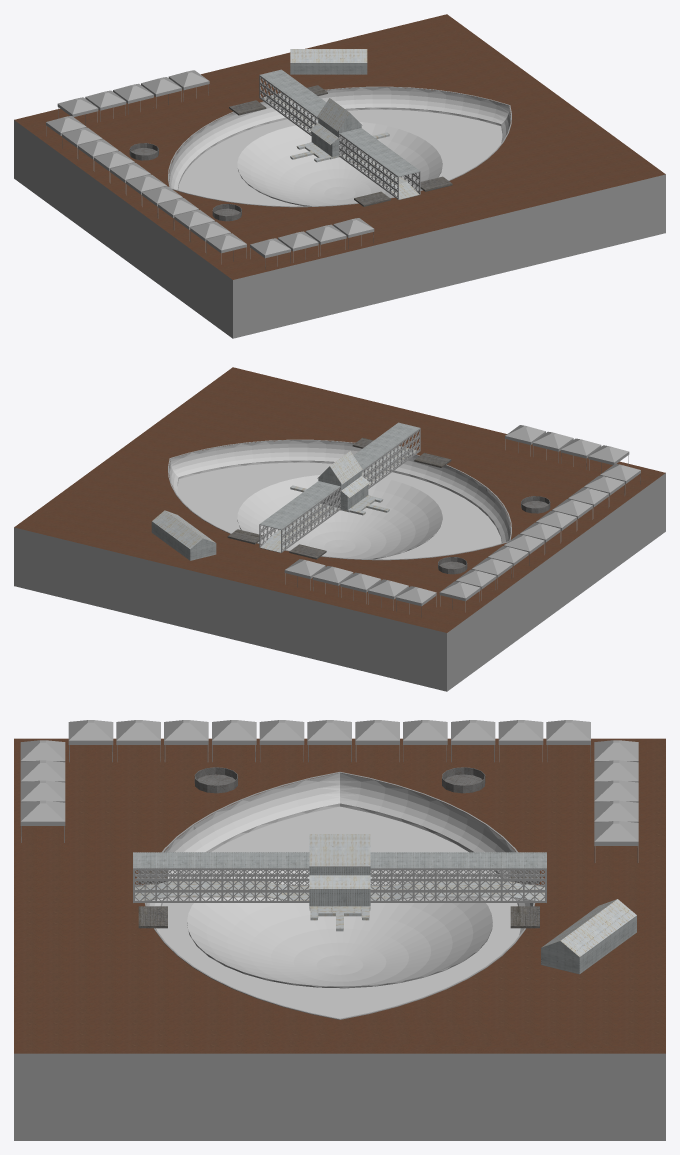
Rendered from transdec.dae.
The picture shows the model from 3 angles, top to bottom: view 1: azimuth 30°, elevation 25°; view 2: azimuth 150°, elevation 25°; view 3: azimuth 270°, elevation 25°; orthographic projection. The views are drawn at different scales.
Parts seen in each view (by area): view 1: transdec-source-repaired; view 2: transdec-source-repaired; view 3: transdec-source-repaired, Dock.002, Dock.001.
Boxes of the visible parts, bbox=[...] form: transdec-source-repaired: bbox=[14, 14, 665, 338]; transdec-source-repaired: bbox=[14, 367, 665, 691]; transdec-source-repaired: bbox=[14, 720, 665, 1140]; Dock.002: bbox=[510, 906, 539, 928]; Dock.001: bbox=[138, 906, 167, 928].
Bounding box in the file's own units: 117 × 102 × 25.89.
